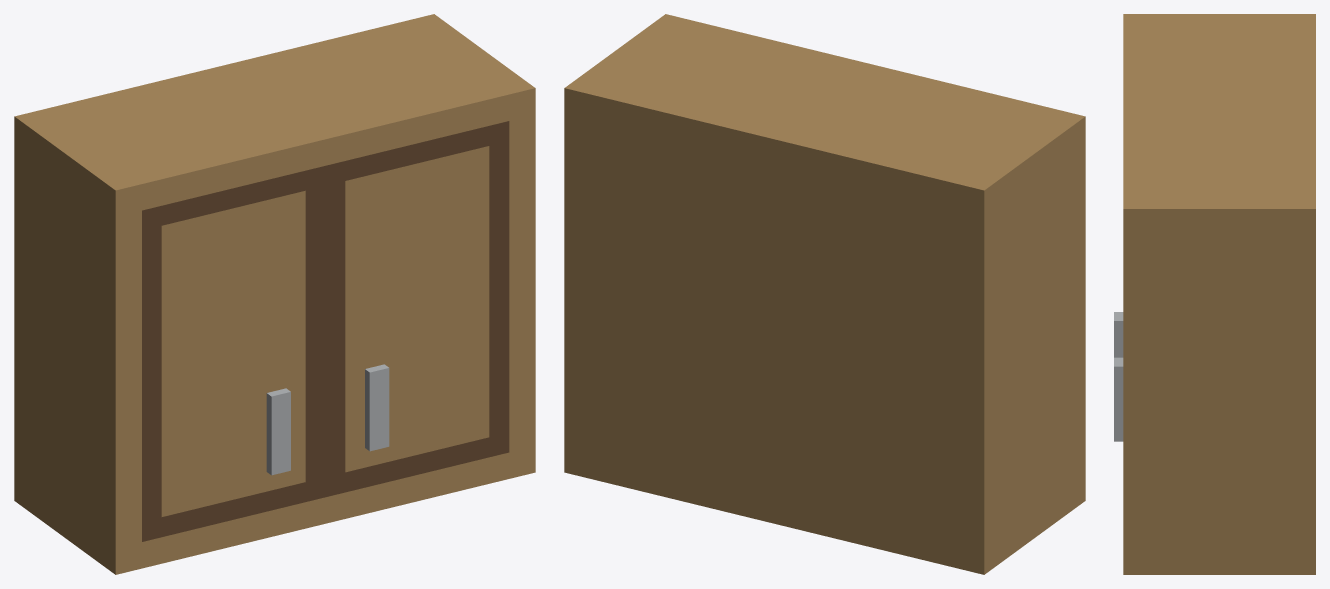
Rendered from wall_unit_double.glb.
3 renders of one model, left to right at view 1: azimuth 30°, elevation 25°; view 2: azimuth 150°, elevation 25°; view 3: azimuth 270°, elevation 25°, orthographic. The views are drawn at different scales.
Parts seen in each view (by area): view 1: wall_unit_double; view 2: wall_unit_double; view 3: wall_unit_double.
Part boxes in pixels (x1=…): wall_unit_double: x1=14, y1=14, x2=535, y2=574; wall_unit_double: x1=564, y1=14, x2=1085, y2=574; wall_unit_double: x1=1114, y1=14, x2=1315, y2=574.
Bounding box in the file's own units: 0.8 × 0.7 × 0.35.
